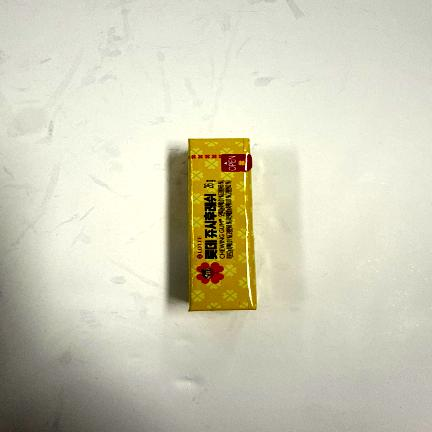gum_yellow: (191, 138, 255, 310)
